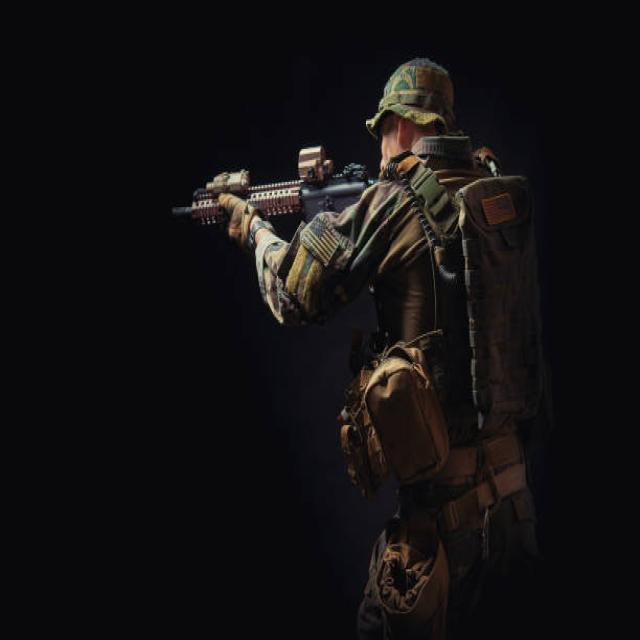soldier: (169, 55, 572, 634)
